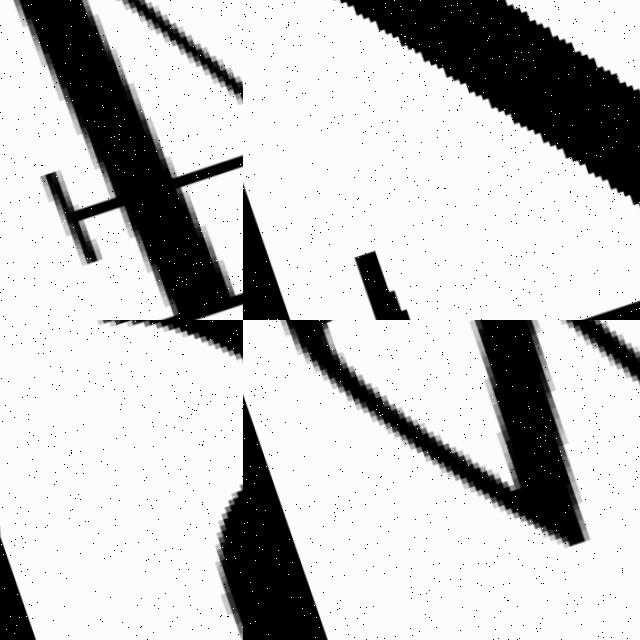6: (84, 320, 243, 640)
W: (243, 320, 640, 624)
Z: (243, 0, 640, 320)
